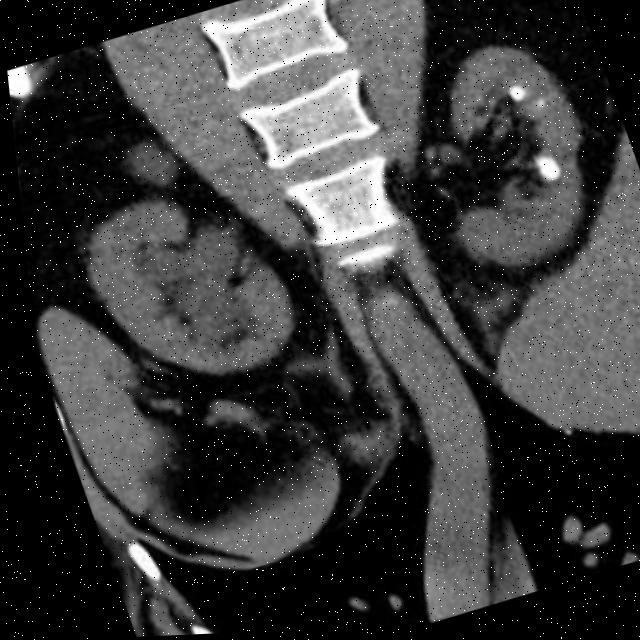Tas_Var: (517, 150, 571, 199), (498, 85, 531, 112), (523, 97, 551, 123)
